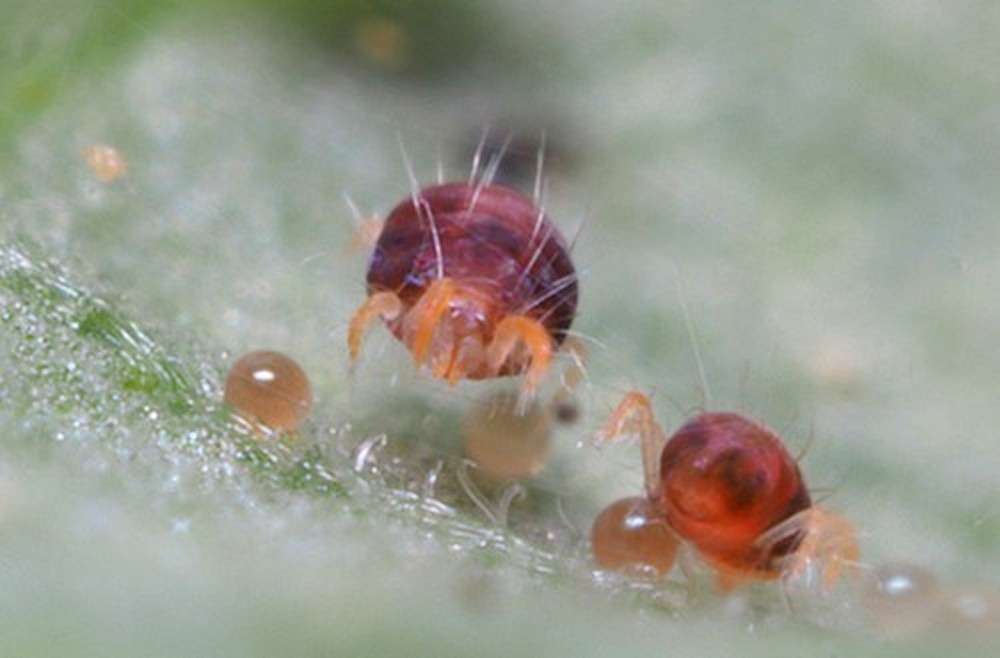Aracnido Rojo: (327, 121, 597, 429), (604, 374, 874, 616)
